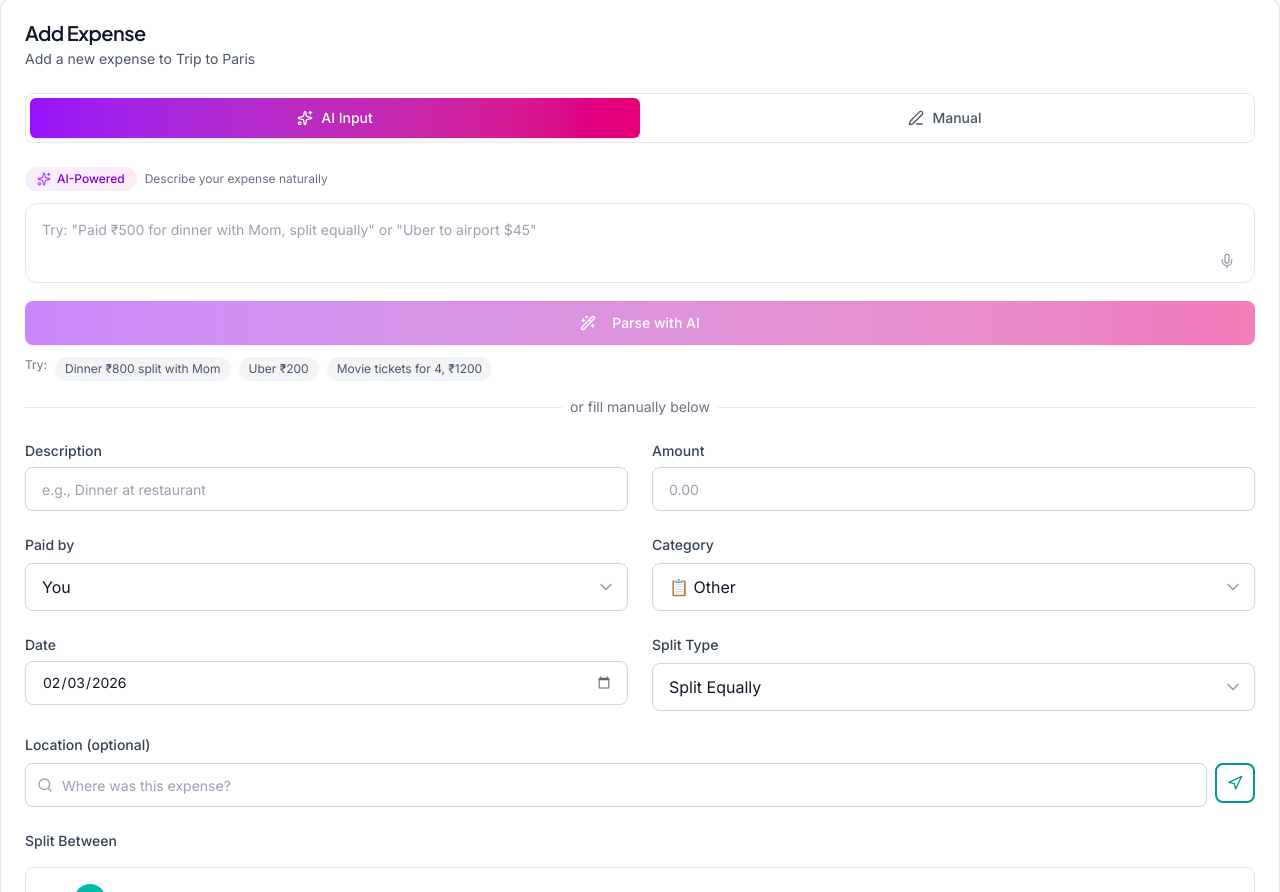
Test: ExpenseForm › Form submission › shows error when splits don't match total
Type "Test" into the field labelled "Description".
click(326, 489); type("Test")  # box [25,467,628,511]
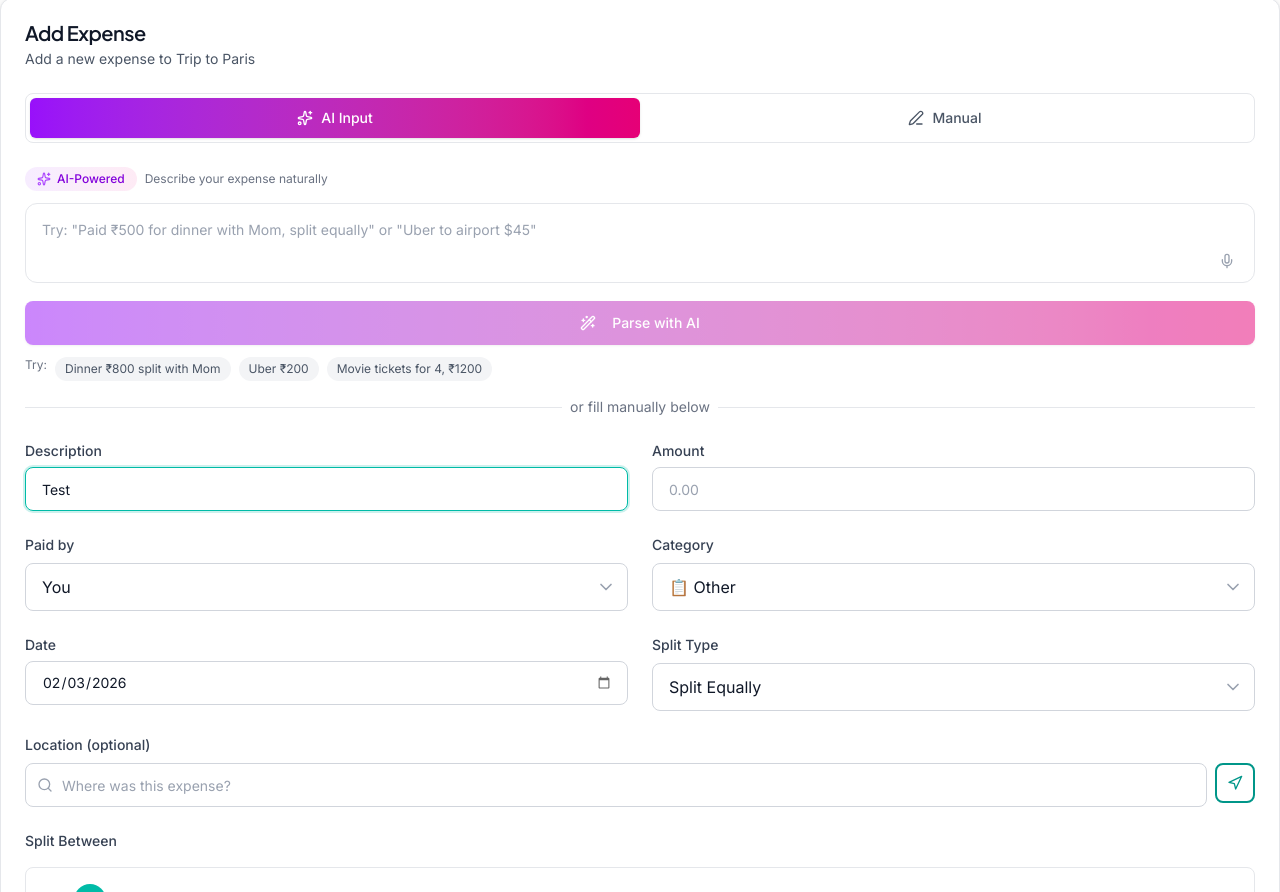
Type "100" into the number field labelled "Amount".
click(954, 489); type("100")  # box [652,467,1255,511]
(page scrolled)
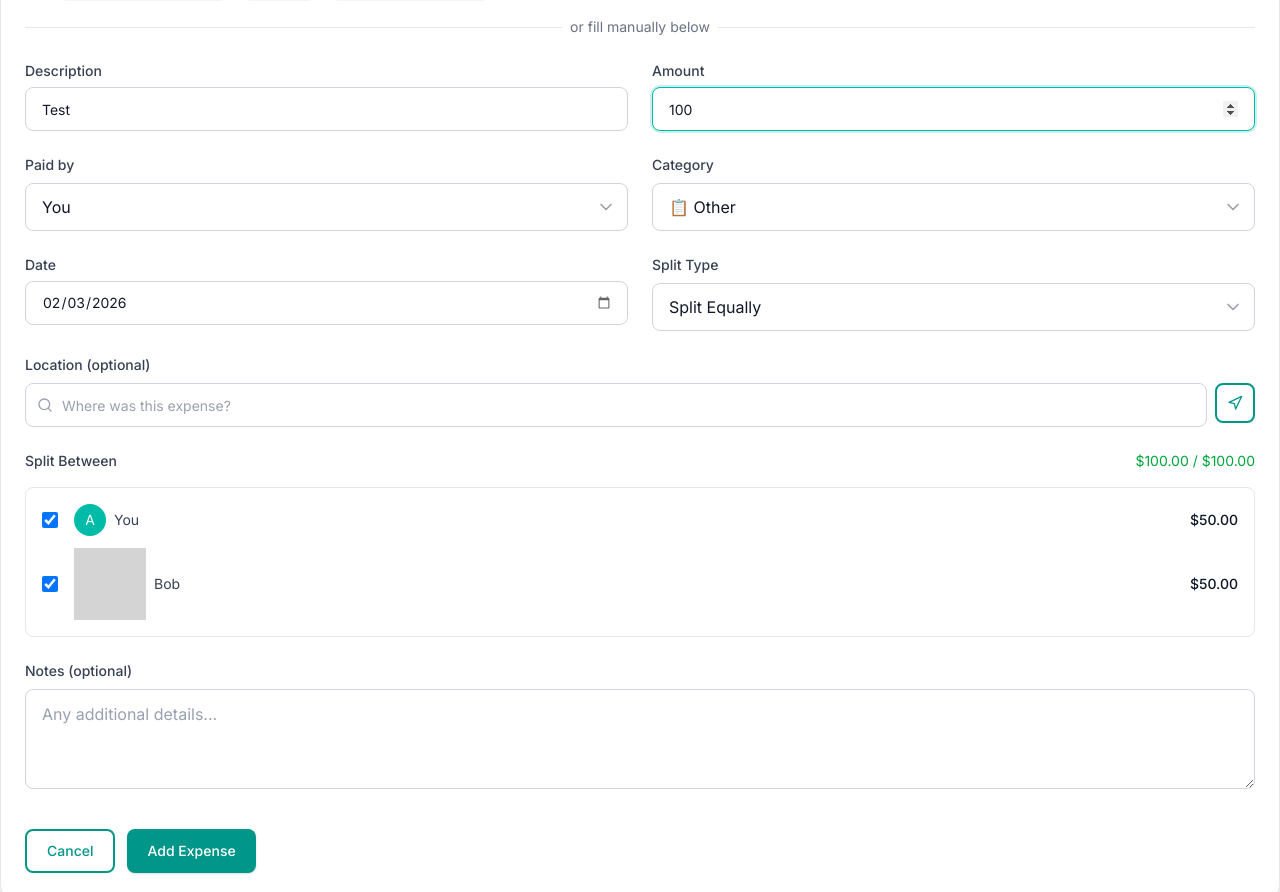
Note: Deselect all members
Click the 1st checkbox.
click(50, 520)  # box [42,512,58,528]
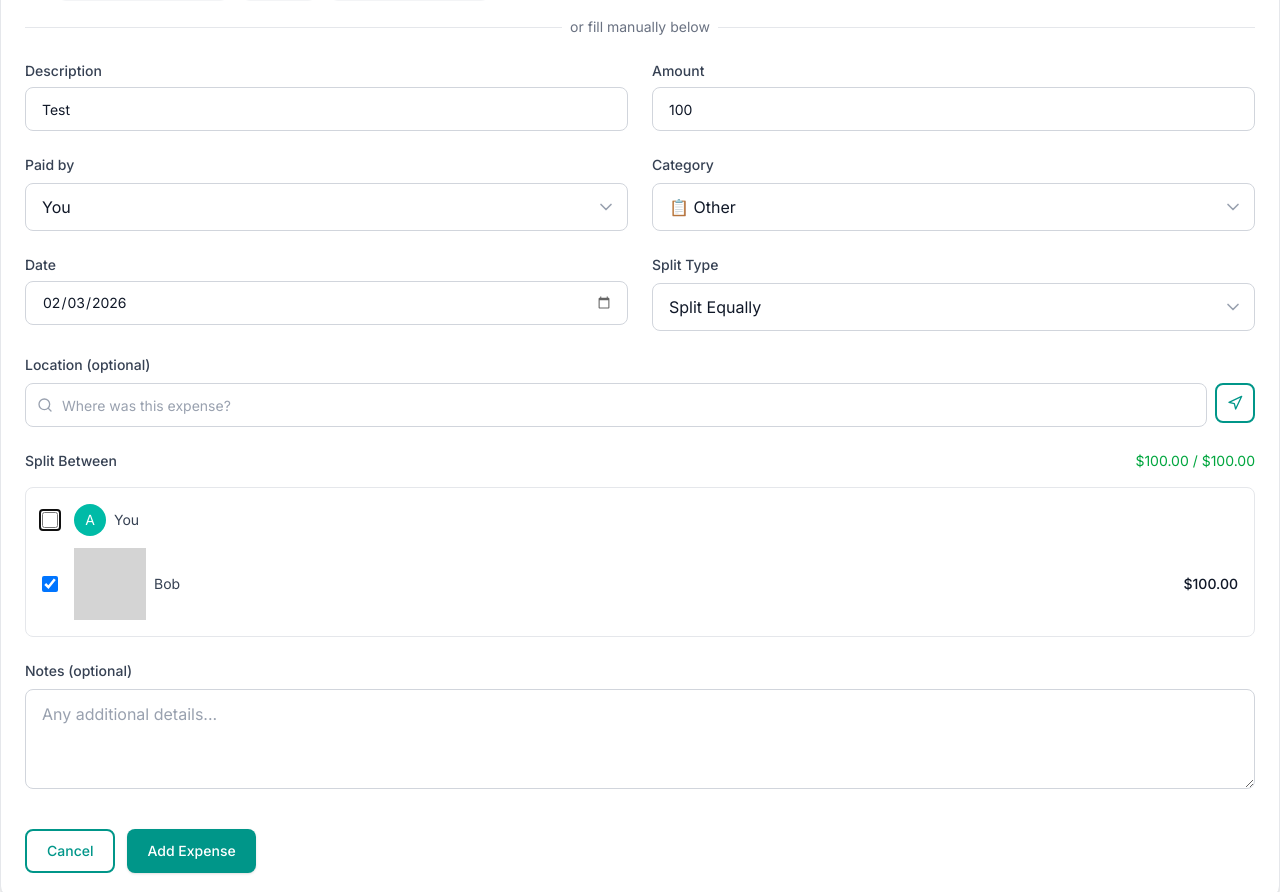
Click the checkbox next to "Bob".
click(50, 584)  # box [42,576,58,592]
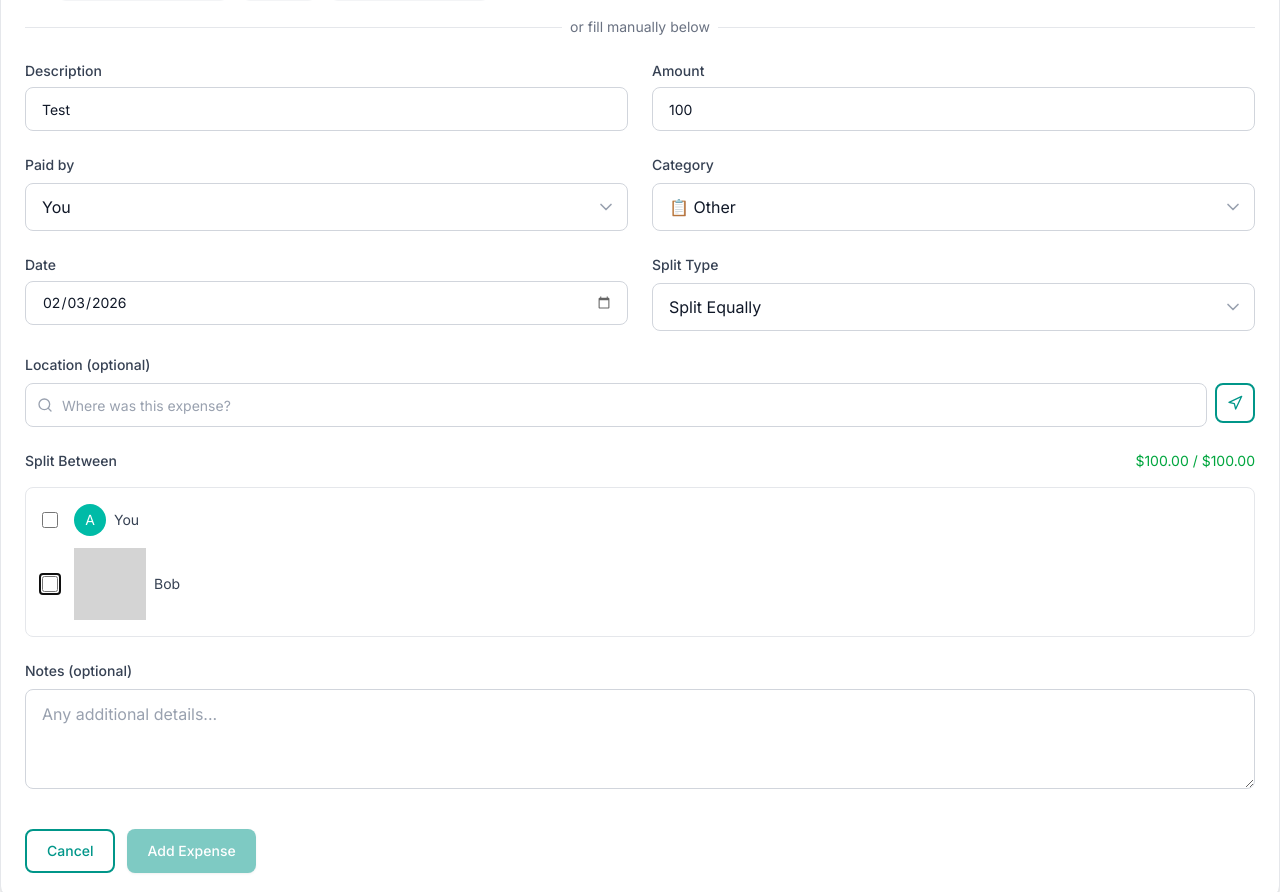
Result: the button "Add Expense" is disabled at [128,829,256,873]
